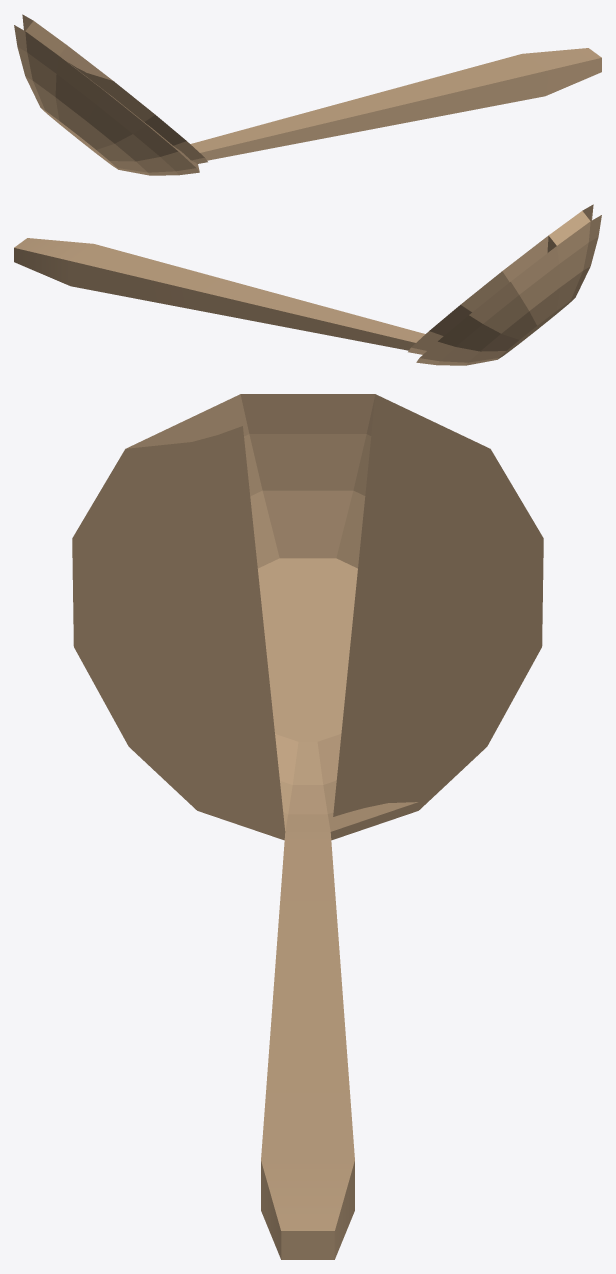
File: sandok.fbx
3 renders of one model, top to bottom at view 1: azimuth 30°, elevation 25°; view 2: azimuth 150°, elevation 25°; view 3: azimuth 270°, elevation 25°, orthographic. The views are drawn at different scales.
Visible parts, largest first — view 1: sandok; view 2: sandok; view 3: sandok.
Boxes of the visible parts, x1=… form: sandok: x1=14, y1=14, x2=601, y2=175; sandok: x1=14, y1=204, x2=601, y2=365; sandok: x1=72, y1=394, x2=543, y2=1259.
Size of the model in its own units: 2.64 by 0.7872 by 0.9748.
